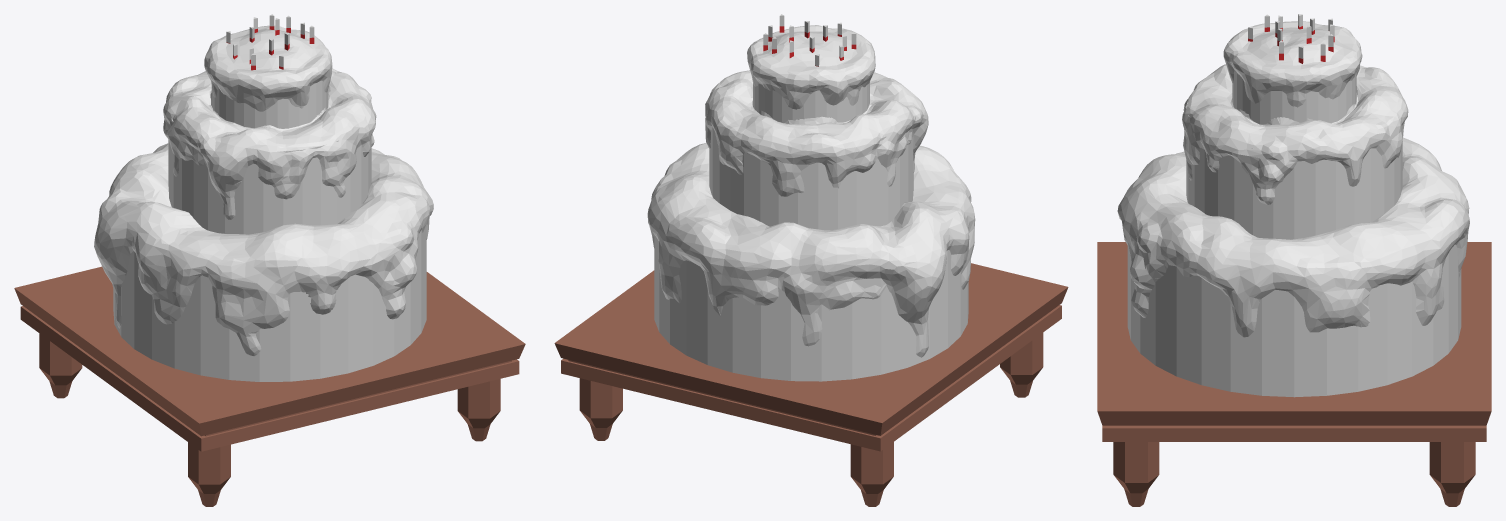
The model's file is BigCake.fbx.
The picture shows the model from 3 angles, left to right: view 1: azimuth 30°, elevation 25°; view 2: azimuth 150°, elevation 25°; view 3: azimuth 270°, elevation 25°; orthographic projection. The views are drawn at different scales.
Parts seen in each view (by area): view 1: Cube.003; view 2: Cube.003; view 3: Cube.003.
Part boxes in pixels (<box>): Cube.003: <box>14,14,525,506</box>; Cube.003: <box>554,14,1068,506</box>; Cube.003: <box>1097,14,1491,506</box>.
Bounding box in the file's own units: 2.4 × 2.74 × 2.36.
